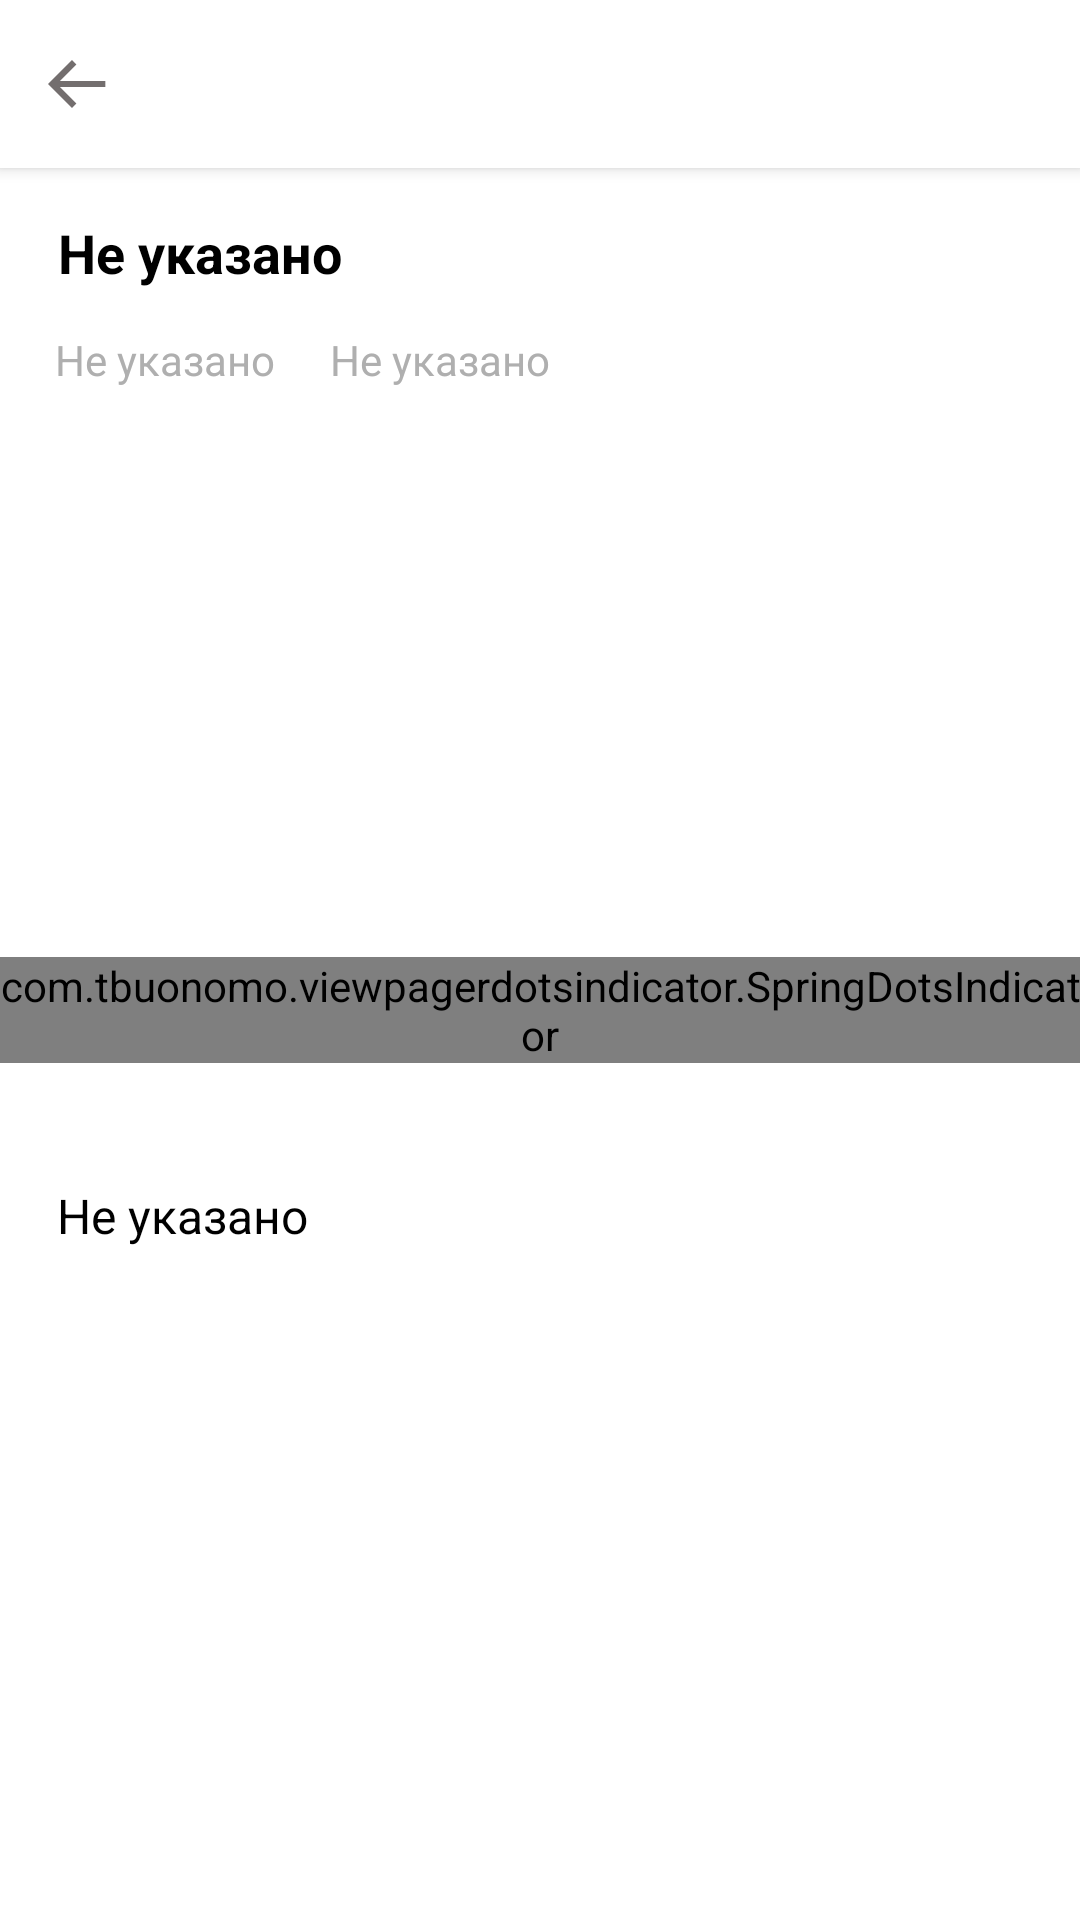

Where to tap for icons on this 1080×1920 app screen, as (x,y):
arrow back: (77,84)
